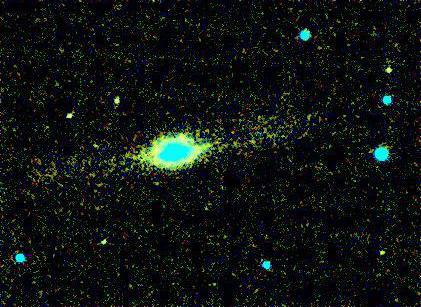star: (80, 132, 110, 162)
